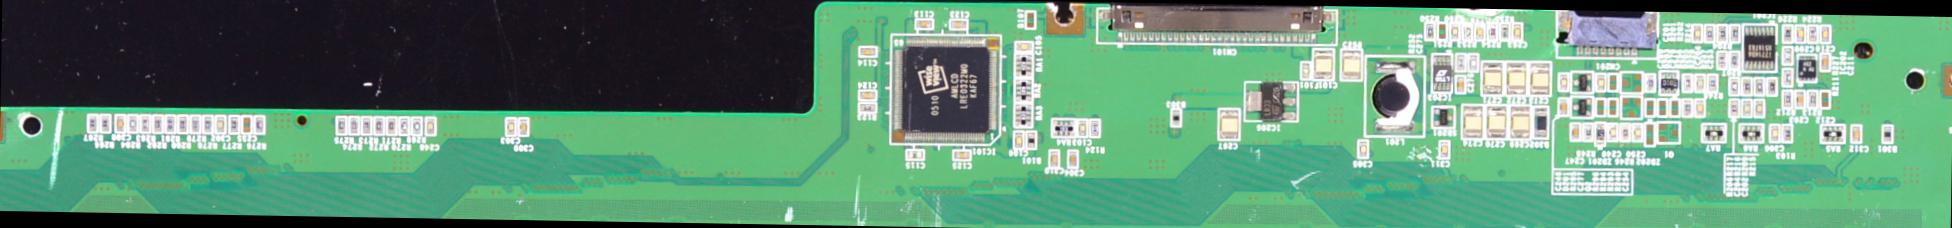Capacitor Jumper: (1508, 105, 1530, 140), (1460, 105, 1481, 138), (1484, 105, 1504, 140), (1527, 60, 1547, 93), (1218, 110, 1240, 140), (1341, 49, 1362, 78), (1505, 62, 1525, 92), (1481, 64, 1501, 92), (1313, 50, 1331, 80), (1047, 151, 1058, 168), (113, 113, 123, 132), (914, 17, 932, 27), (954, 150, 970, 159), (905, 150, 921, 159), (1694, 74, 1703, 91), (1557, 74, 1566, 91), (1455, 75, 1464, 92), (1077, 120, 1086, 137), (423, 117, 432, 135), (1449, 22, 1458, 40), (1692, 22, 1699, 42), (1013, 131, 1022, 147), (1358, 140, 1367, 156), (859, 90, 874, 98), (1632, 123, 1641, 138), (505, 117, 513, 135), (1559, 101, 1569, 113), (1595, 74, 1602, 90), (1439, 141, 1447, 157), (856, 49, 873, 56), (1511, 25, 1520, 39), (215, 115, 222, 133), (1015, 44, 1030, 51), (1770, 126, 1779, 138), (1610, 122, 1616, 140), (520, 120, 527, 137), (242, 115, 248, 132), (949, 17, 962, 25), (1068, 152, 1074, 168), (1743, 101, 1749, 116), (1821, 54, 1828, 69), (1571, 125, 1577, 138), (1475, 25, 1481, 39), (1755, 102, 1762, 115), (1796, 29, 1803, 41), (1795, 93, 1800, 108), (1851, 128, 1856, 143), (1820, 27, 1826, 39), (1696, 101, 1701, 115)
IC: (891, 35, 996, 145), (1245, 81, 1297, 121), (1744, 25, 1774, 67), (1432, 52, 1448, 90), (1798, 56, 1815, 81)
Resistor Jumper: (227, 112, 237, 133), (383, 117, 393, 135), (1643, 72, 1652, 91), (1620, 122, 1628, 141), (1820, 90, 1830, 106), (138, 116, 147, 133), (1581, 125, 1591, 140), (98, 116, 108, 131), (1740, 77, 1749, 93), (86, 113, 95, 130), (164, 115, 173, 131), (1727, 25, 1735, 41), (1424, 22, 1433, 39), (1808, 91, 1816, 106), (1781, 125, 1789, 142), (1091, 118, 1098, 136), (188, 117, 197, 132), (1500, 21, 1508, 39), (1681, 76, 1688, 92), (1783, 90, 1790, 106), (336, 118, 344, 135), (152, 116, 159, 132), (1717, 26, 1724, 42), (1462, 22, 1469, 39), (1781, 46, 1789, 62), (1647, 123, 1652, 147), (1753, 78, 1760, 93), (1607, 101, 1615, 116), (254, 115, 261, 130), (350, 120, 357, 135), (202, 117, 209, 132), (1709, 74, 1715, 91), (1023, 10, 1030, 27), (1486, 25, 1494, 39), (1607, 74, 1613, 90), (856, 105, 873, 111), (1669, 101, 1677, 113), (398, 117, 405, 132), (411, 120, 417, 135), (127, 116, 133, 131), (1784, 70, 1790, 83), (1730, 78, 1737, 92), (372, 118, 378, 132), (178, 118, 184, 132), (1718, 51, 1724, 65), (1730, 52, 1737, 66), (1647, 98, 1652, 115), (1706, 25, 1710, 41), (1457, 52, 1462, 69), (1471, 54, 1476, 70), (1684, 102, 1691, 115), (1767, 80, 1771, 95), (1810, 25, 1815, 40), (1730, 101, 1735, 115), (361, 120, 366, 132), (1784, 26, 1789, 37), (1657, 101, 1661, 113), (1596, 101, 1600, 113)
